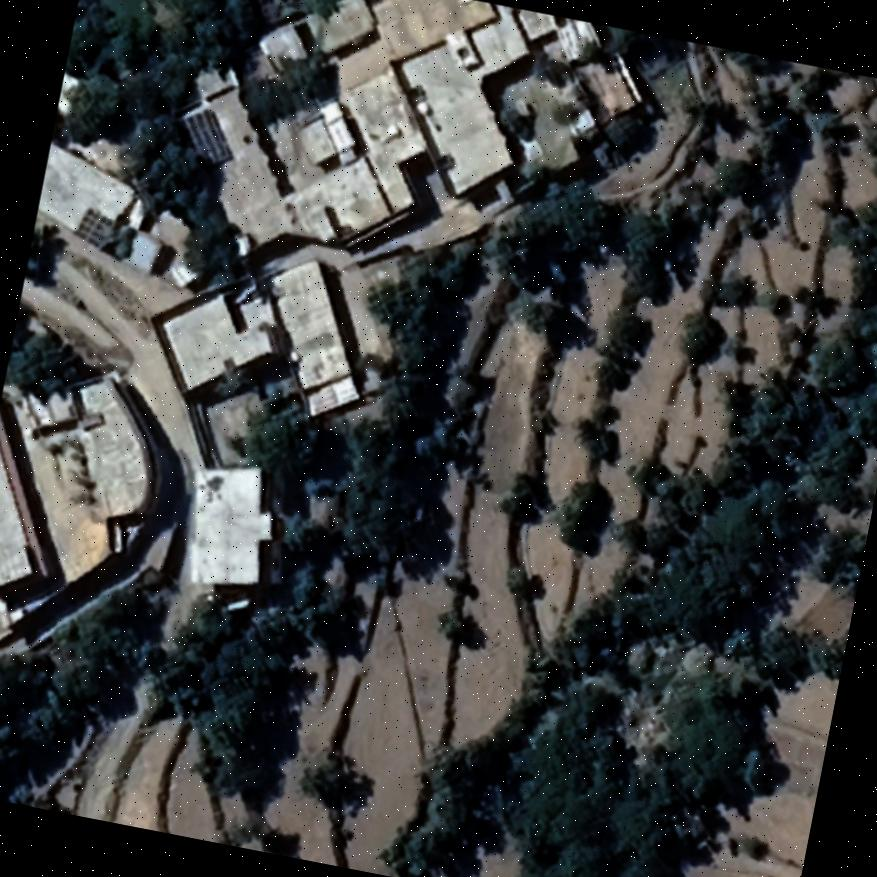Solarpanel: (177, 101, 232, 168), (71, 204, 117, 250)
